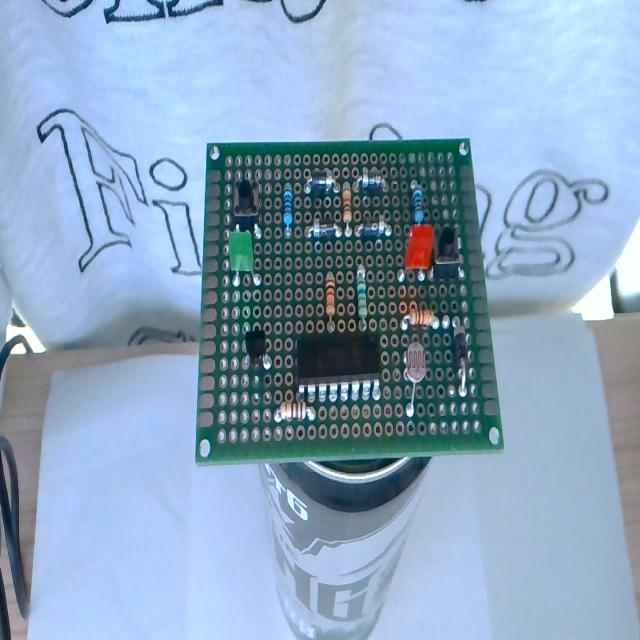IC: (295, 329, 379, 402)
cds: (404, 338, 427, 419)
diode: (452, 317, 467, 393), (307, 219, 339, 245), (305, 170, 335, 197), (356, 219, 390, 240), (358, 173, 383, 194)
led: (228, 229, 258, 291), (404, 224, 434, 272)
resistor: (404, 300, 437, 328), (274, 397, 307, 422), (356, 267, 367, 328), (325, 275, 336, 329), (283, 186, 293, 230), (412, 182, 423, 222), (342, 187, 352, 225)
switch: (434, 225, 461, 280), (233, 178, 260, 230)
transistor: (245, 326, 268, 371)
